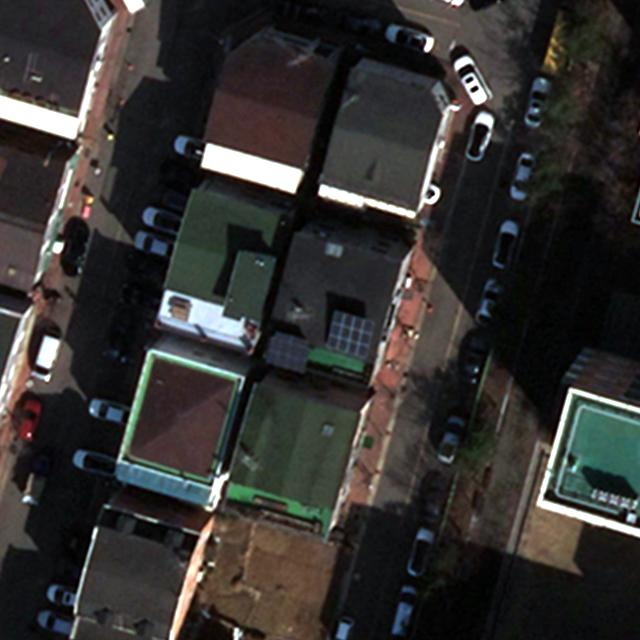panel: (322, 302, 373, 362), (262, 327, 311, 373)
